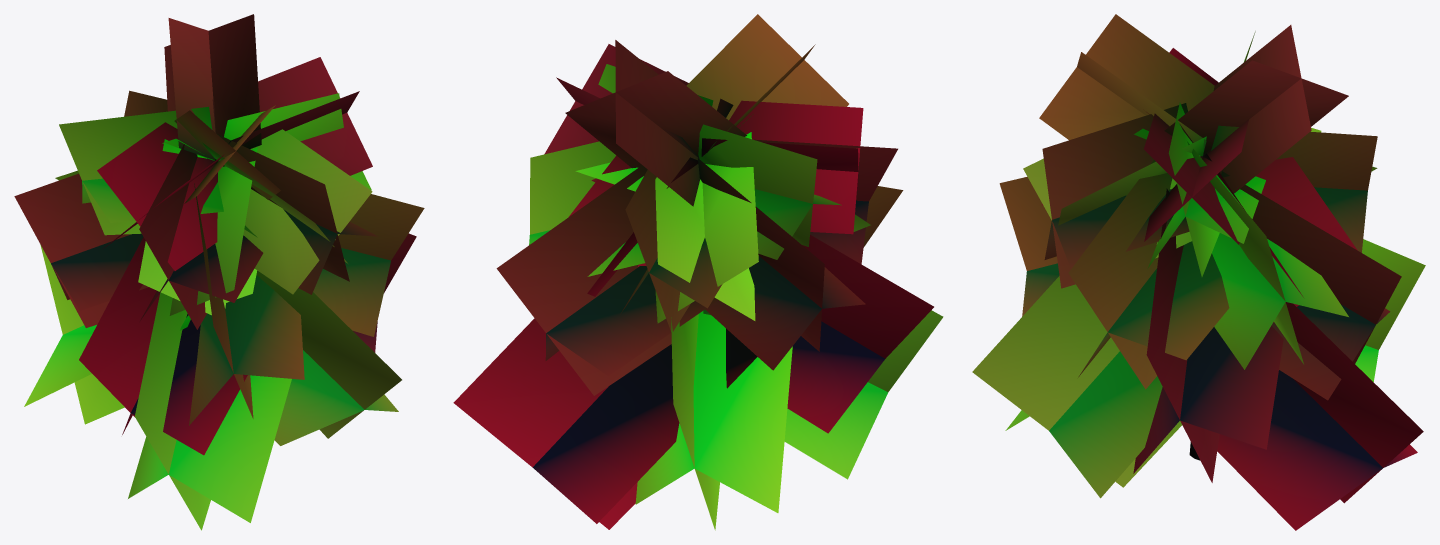
Rendered from Super_11_5.fbx.
The picture shows the model from 3 angles, left to right: view 1: azimuth 30°, elevation 25°; view 2: azimuth 150°, elevation 25°; view 3: azimuth 270°, elevation 25°; orthographic projection. The views are drawn at different scales.
Parts seen in each view (by area): view 1: Super_11_5; view 2: Super_11_5; view 3: Super_11_5.
Part boxes in pixels (x1,y1,x2,y2): Super_11_5: [14, 14, 424, 530]; Super_11_5: [453, 14, 943, 530]; Super_11_5: [972, 14, 1425, 530].
Bounding box in the file's own units: 1493 × 1731 × 1526.
